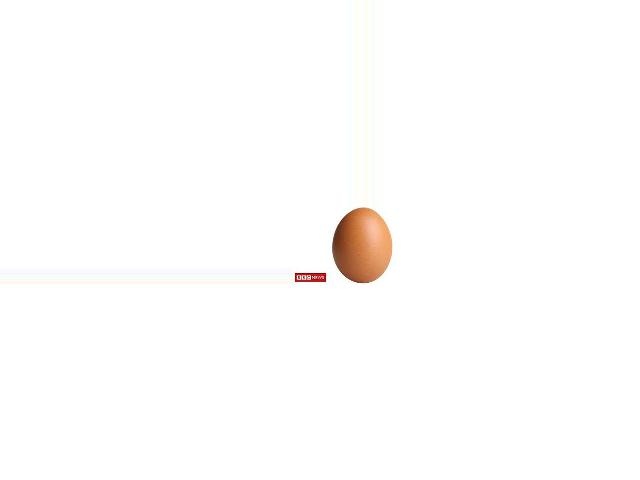egg: (333, 208, 392, 283)
